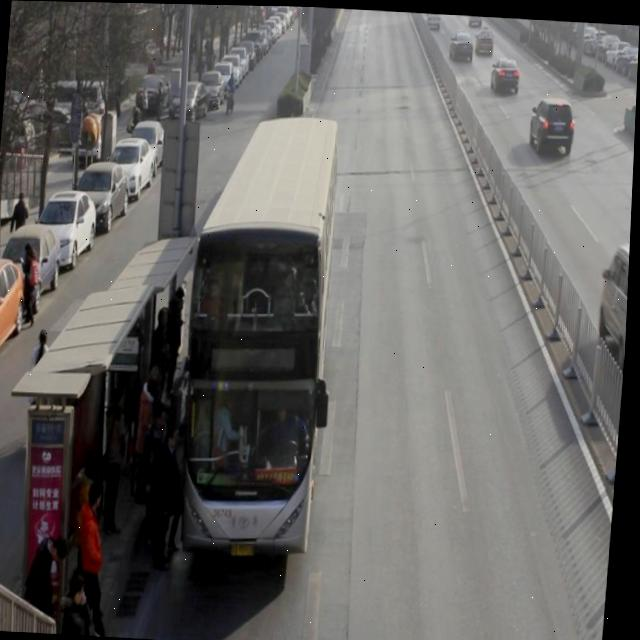car: (526, 96, 578, 160), (488, 57, 521, 98), (446, 31, 475, 69), (472, 26, 495, 59), (422, 10, 440, 34)
truck: (465, 13, 482, 31)
van: (176, 124, 342, 560)
